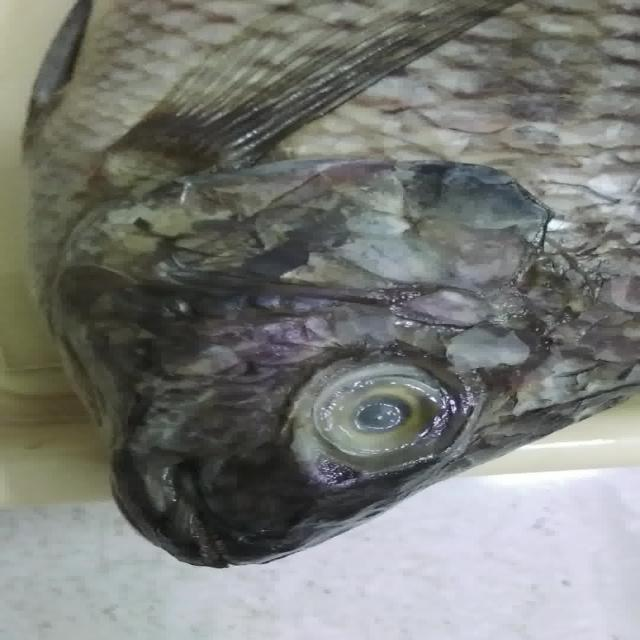Non-Fresh: (275, 334, 482, 476)
